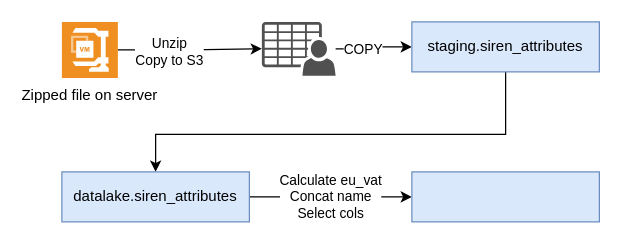
This 621x244 diagram has some shape labels left out. The shapes that lost their labels are listed below. From the top down, each one's centre as x and y in pixels, then its label:
At [298,48]: "Csv on S3".
At [505,196]: "dwh.siren_attributes".
